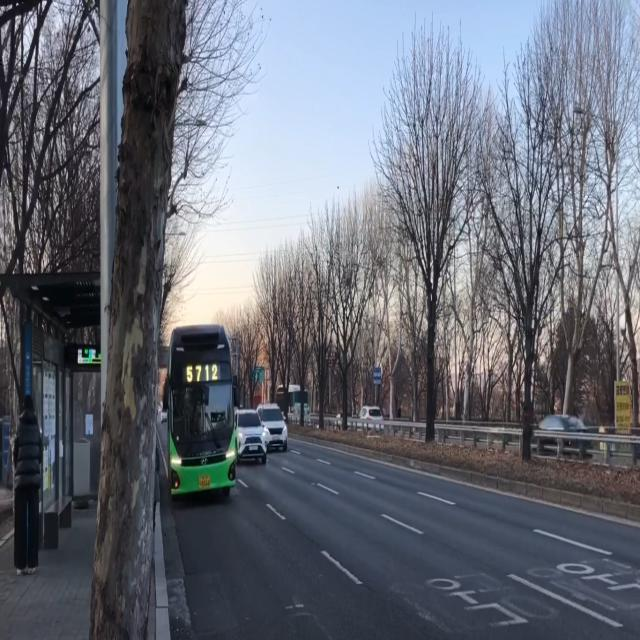bus-number: (186, 363, 218, 383)
